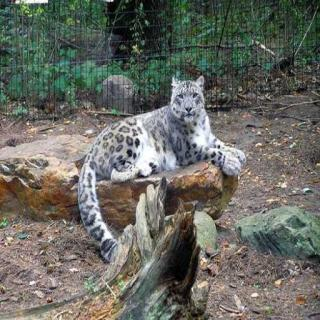Leopard: (67, 70, 258, 228)
